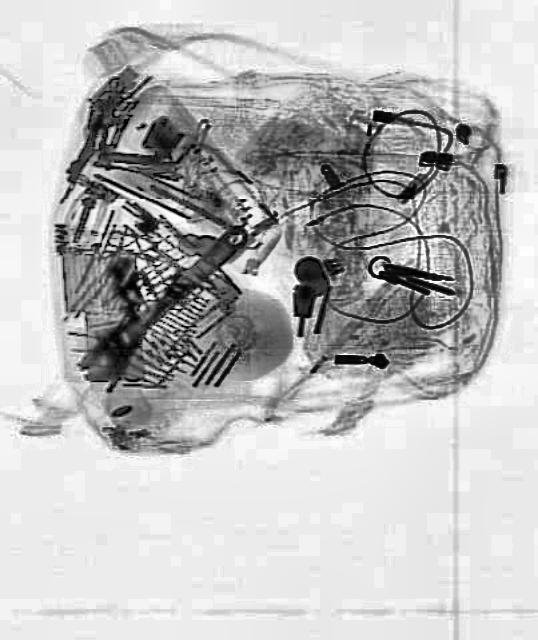Wrench: (68, 209, 258, 395)
